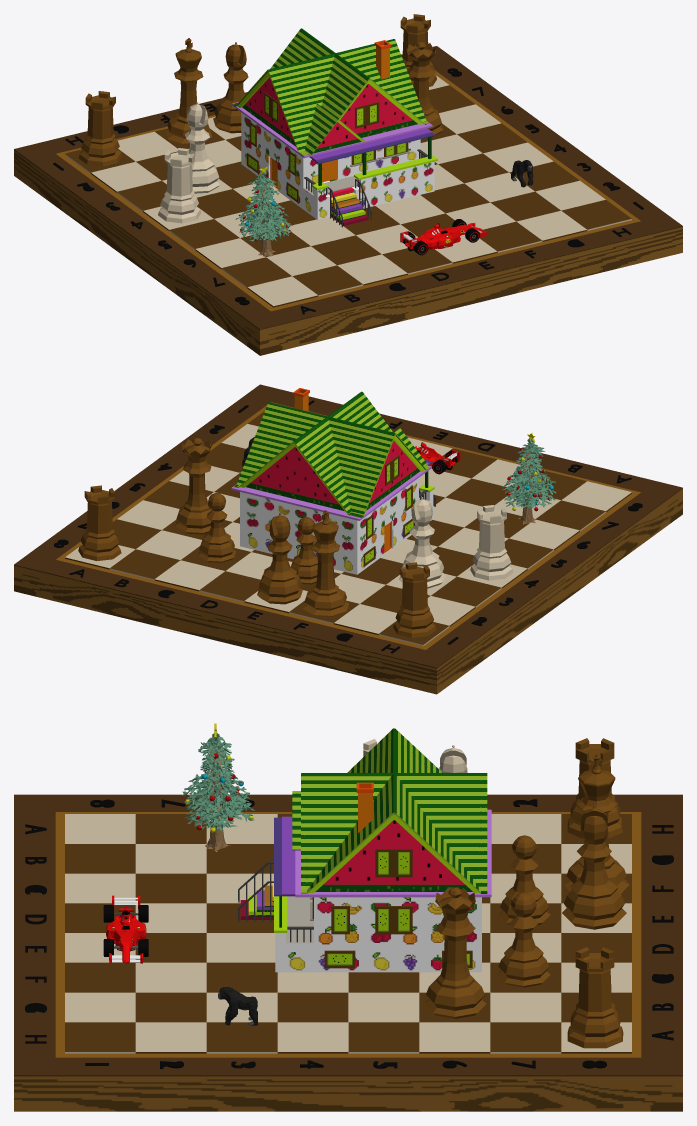
The picture shows the model from 3 angles, top to bottom: view 1: azimuth 30°, elevation 25°; view 2: azimuth 150°, elevation 25°; view 3: azimuth 270°, elevation 25°; orthographic projection. The views are drawn at different scales.
Parts seen in each view (by area): view 1: Cube.002, Cube.1063, OBJRANDOM_CHRISTMAS_TREE, VEHICLES_FORMULA_1; view 2: Cube.002, Cube.1063, OBJRANDOM_CHRISTMAS_TREE, VEHICLES_FORMULA_1; view 3: Cube.002, Cube.1063, OBJRANDOM_CHRISTMAS_TREE, VEHICLES_FORMULA_1, ANIMAL_GORILA.
Part boxes in pixels (bbox=[...]): Cube.002: bbox=[14, 14, 682, 355]; Cube.1063: bbox=[232, 28, 437, 227]; OBJRANDOM_CHRISTMAS_TREE: bbox=[235, 166, 292, 256]; VEHICLES_FORMULA_1: bbox=[400, 219, 487, 255]; Cube.002: bbox=[14, 384, 682, 694]; Cube.1063: bbox=[231, 388, 435, 574]; OBJRANDOM_CHRISTMAS_TREE: bbox=[502, 433, 556, 524]; VEHICLES_FORMULA_1: bbox=[415, 442, 460, 474]; Cube.002: bbox=[14, 738, 682, 1111]; Cube.1063: bbox=[238, 728, 491, 972]; OBJRANDOM_CHRISTMAS_TREE: bbox=[182, 723, 254, 851]; VEHICLES_FORMULA_1: bbox=[103, 895, 148, 963]; ANIMAL_GORILA: bbox=[218, 987, 257, 1025].
Size of the model in its own units: 3981 by 1492 by 4012.
35 materials, 4 textured.
